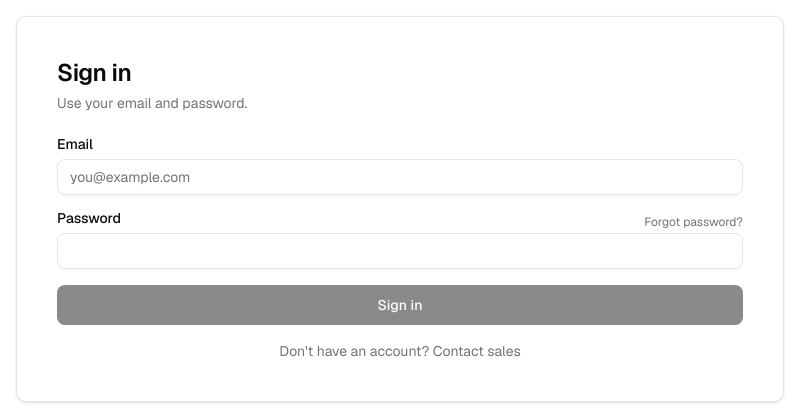
Scenario: SignInPage › disables submit when invalid and enables when valid
Check: the button "Sign in" is disabled, box [57,285,743,325]
Step 1. Type "a@b.com" into the field labelled "Email" → (400, 177), box [57,159,743,195]
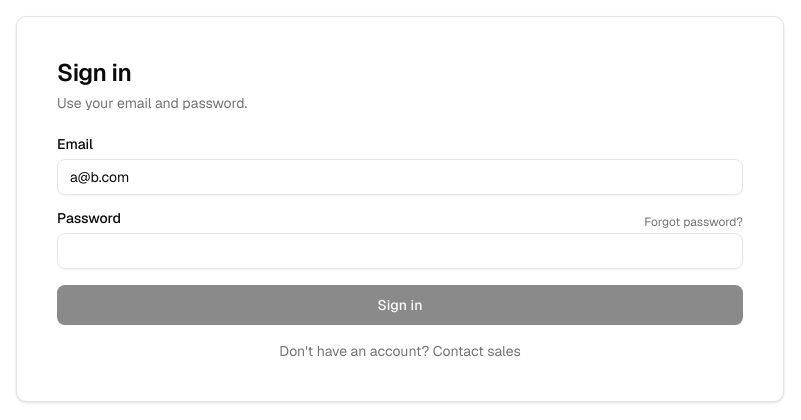
Step 2. Type "pass" into the password field labelled "Password" → (400, 251), box [57,233,743,269]
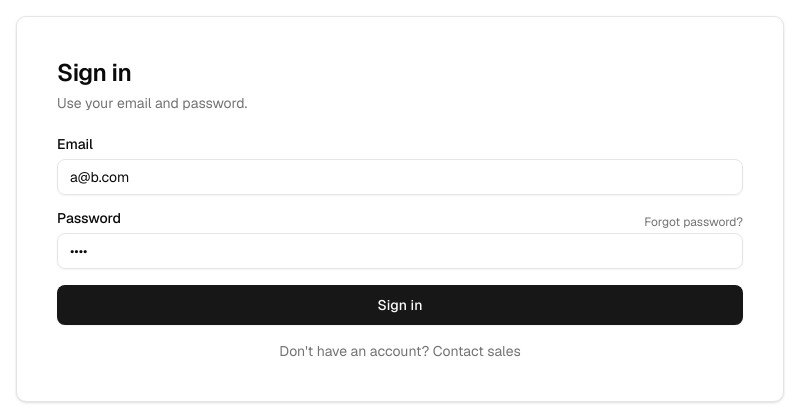
Check: the button "Sign in" is enabled, box [57,285,743,325]
